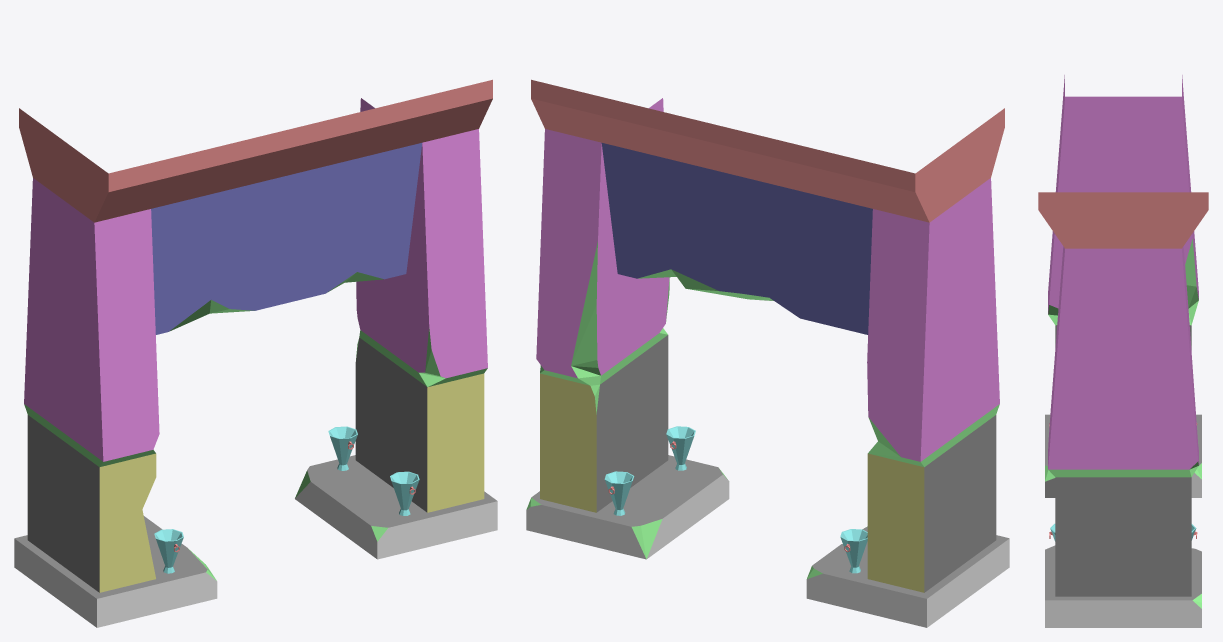
Rendered from SSQ_BRoom02_Gate.gltf.
3 views of the same model, side by side, from view 1: azimuth 30°, elevation 25°; view 2: azimuth 150°, elevation 25°; view 3: azimuth 270°, elevation 25° (orthographic). The views are drawn at different scales.
Parts seen in each view (by area): view 1: SSQ_BRoom02_Gate; view 2: SSQ_BRoom02_Gate; view 3: SSQ_BRoom02_Gate.
Boxes of the visible parts, left/top/right/bottom form: SSQ_BRoom02_Gate: left=14, top=79, right=497, bottom=627; SSQ_BRoom02_Gate: left=526, top=79, right=1009, bottom=627; SSQ_BRoom02_Gate: left=1038, top=75, right=1208, bottom=627.
Bounding box in the file's own units: 3.61 × 3.91 × 1.4.
